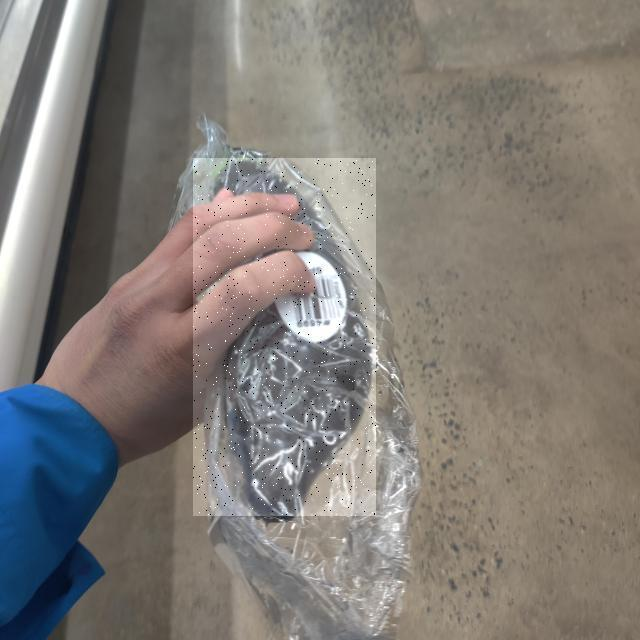Egg Plant: (193, 159, 376, 517)
